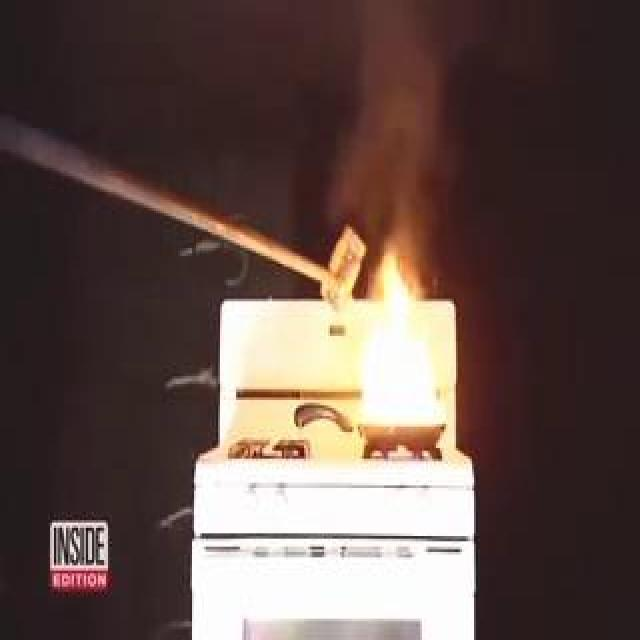Fire: (352, 203, 438, 440)
